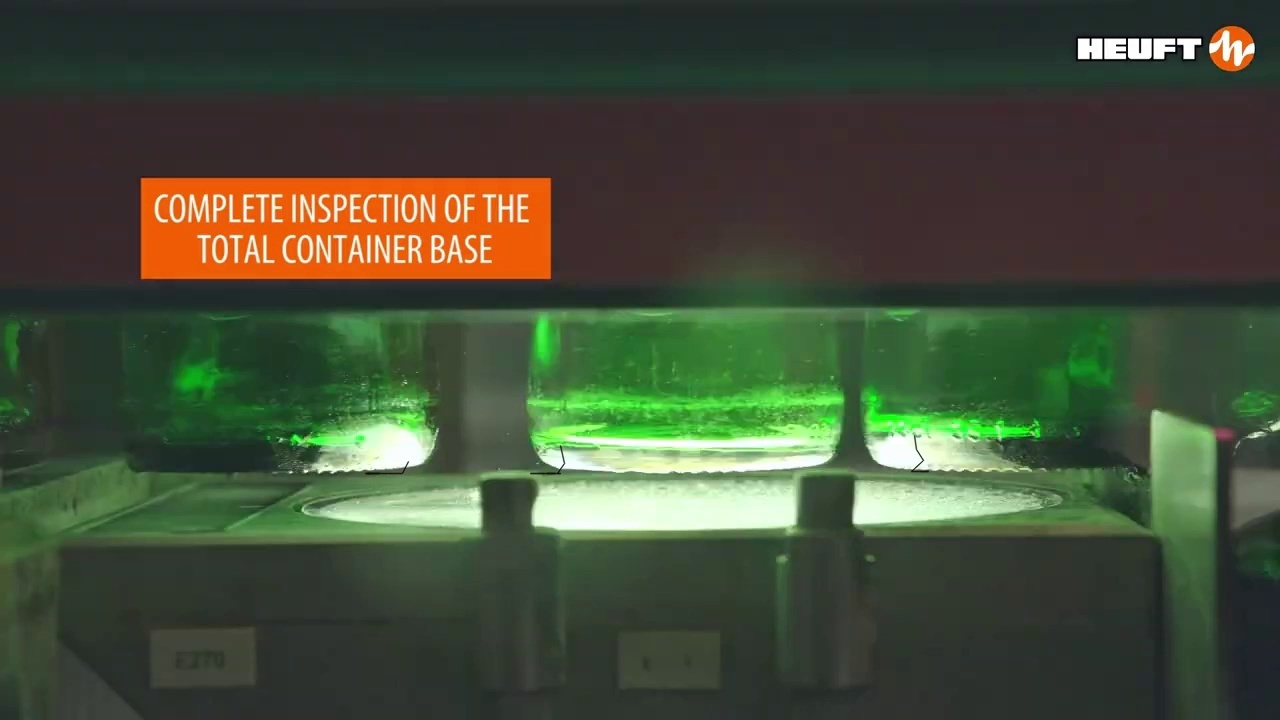bottle: (34, 28, 999, 459), (527, 302, 844, 470), (122, 314, 447, 475)
crack: (911, 435, 928, 471), (365, 461, 408, 473)
